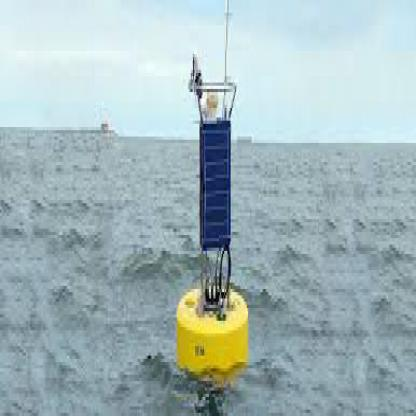buoy: (175, 25, 264, 381)
